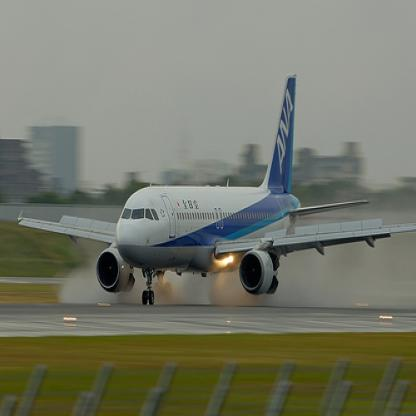aeroplane: (16, 72, 415, 308)
